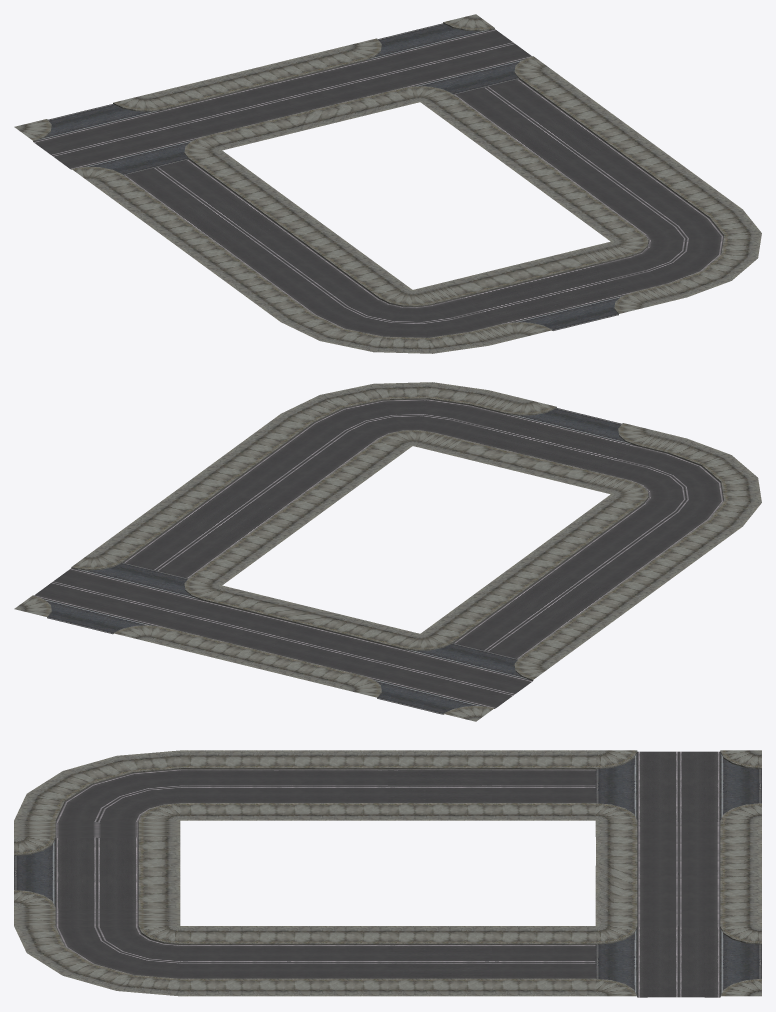
The model's file is cunte_roads09.obj.
3 renders of one model, top to bottom at view 1: azimuth 30°, elevation 25°; view 2: azimuth 150°, elevation 25°; view 3: azimuth 270°, elevation 25°, orthographic. The views are drawn at different scales.
Parts seen in each view (by area): view 1: cunte_roads09; view 2: cunte_roads09; view 3: cunte_roads09.
Boxes of the visible parts, bbox=[...] form: cunte_roads09: bbox=[14, 14, 761, 353]; cunte_roads09: bbox=[14, 382, 761, 721]; cunte_roads09: bbox=[14, 750, 761, 997].
Bounding box in the file's own units: 70 × 0.1675 × 90.
